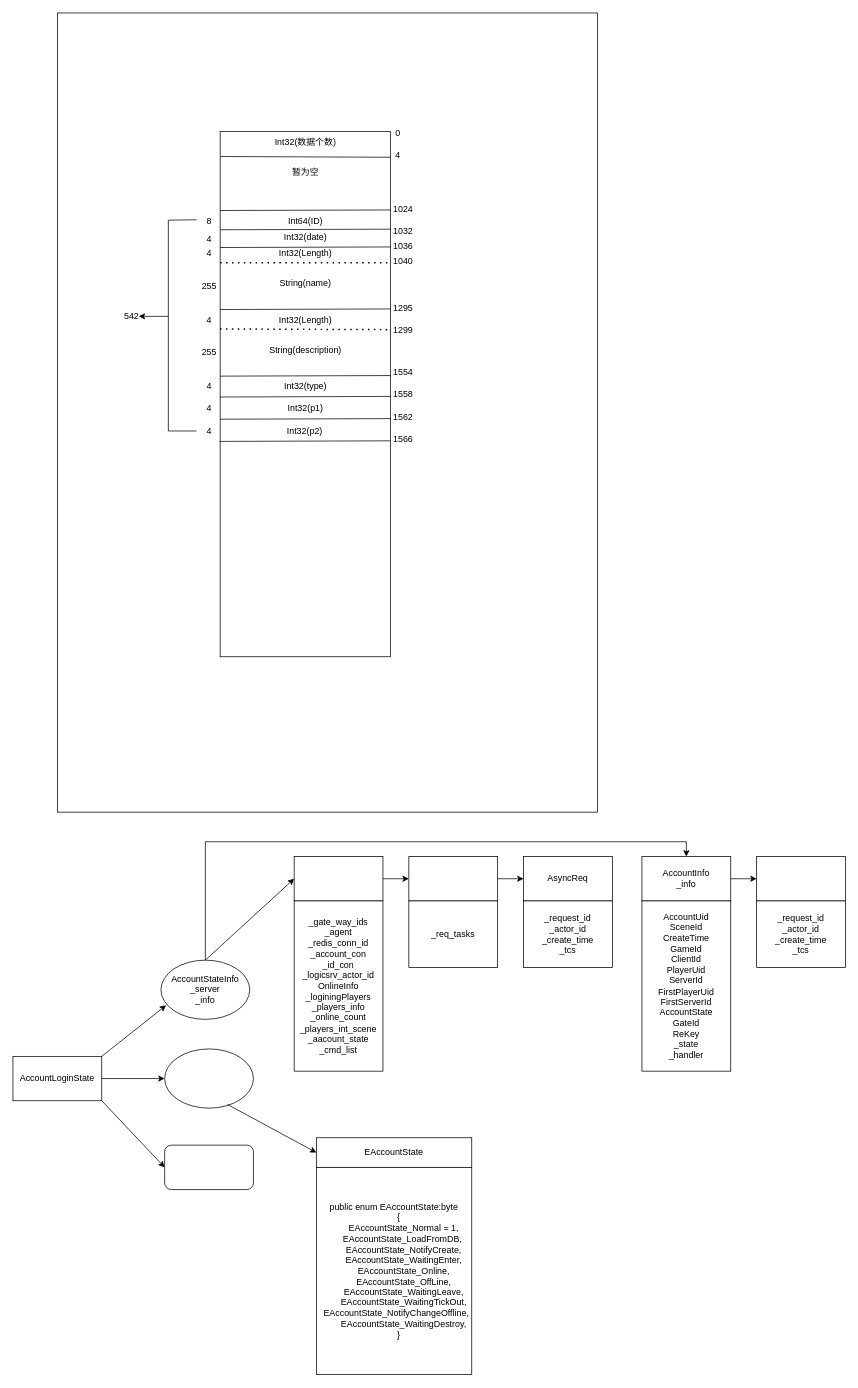
Some shapes in this 858 by 1388 pixel diagram are drawn without their labels. The centre of each missing label's shape, as x and y in pixels:
"_state_id" goes at pixel 208 1078.
"AccountServer _server" goes at pixel 338 878.
"DBAgent" goes at pixel 453 878.
"LoginState" goes at pixel 800 878.
"OnDisconnect OnConnect" goes at pixel 208 1167.
